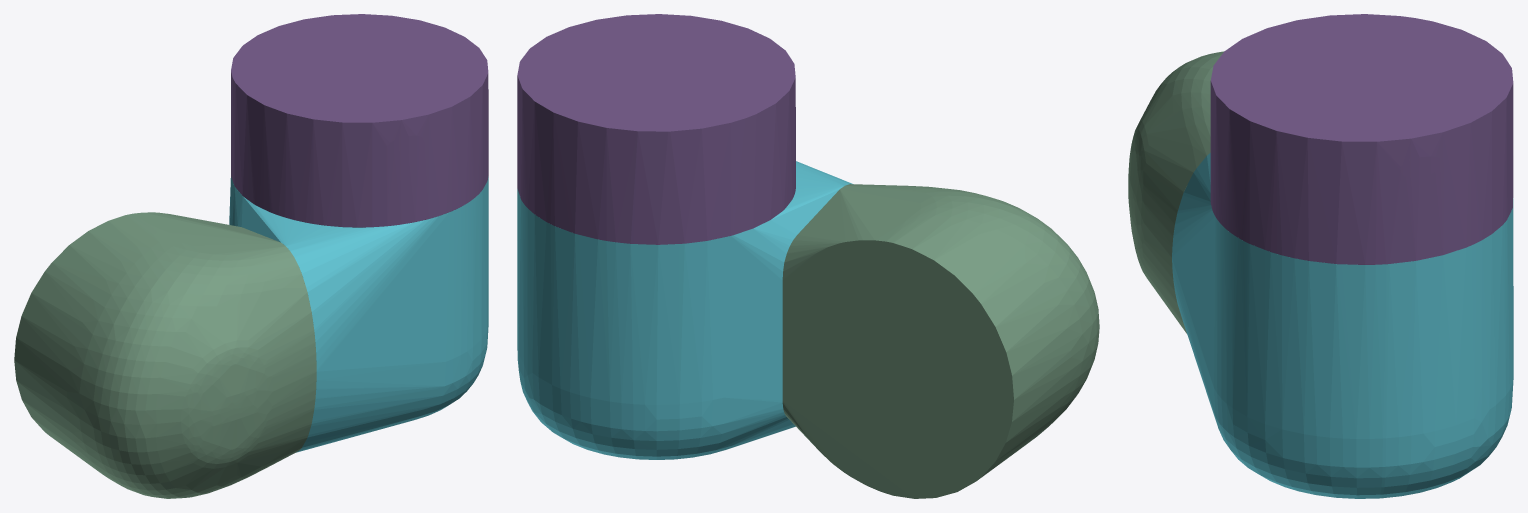
3 views of the same model, side by side, from view 1: azimuth 30°, elevation 25°; view 2: azimuth 150°, elevation 25°; view 3: azimuth 270°, elevation 25° (orthographic). The views are drawn at different scales.
Visible parts, largest first — view 1: geometry_0, geometry_1, geometry_2; view 2: geometry_0, geometry_2, geometry_1; view 3: geometry_2, geometry_1, geometry_0.
Boxes of the visible parts, x1=… form: geometry_0: x1=14, y1=212, x2=316, y2=498; geometry_1: x1=231, y1=14, x2=488, y2=227; geometry_2: x1=229, y1=176, x2=488, y2=452; geometry_0: x1=782, y1=184, x2=1099, y2=498; geometry_2: x1=517, y1=161, x2=853, y2=459; geometry_1: x1=517, y1=14, x2=795, y2=244; geometry_2: x1=1172, y1=153, x2=1513, y2=498; geometry_1: x1=1210, y1=14, x2=1513, y2=264; geometry_0: x1=1128, y1=51, x2=1223, y2=333.
Bounding box in the file's own units: 0.151 × 0.106 × 0.0954.
